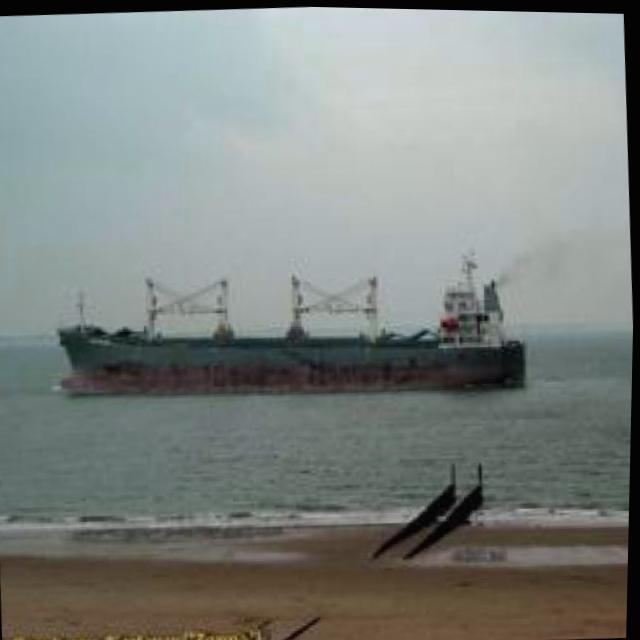ship2: (57, 244, 528, 396)
